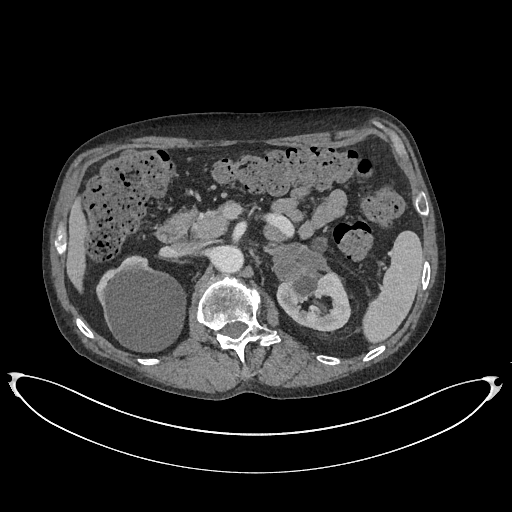Lesion: (267, 239, 332, 288)
